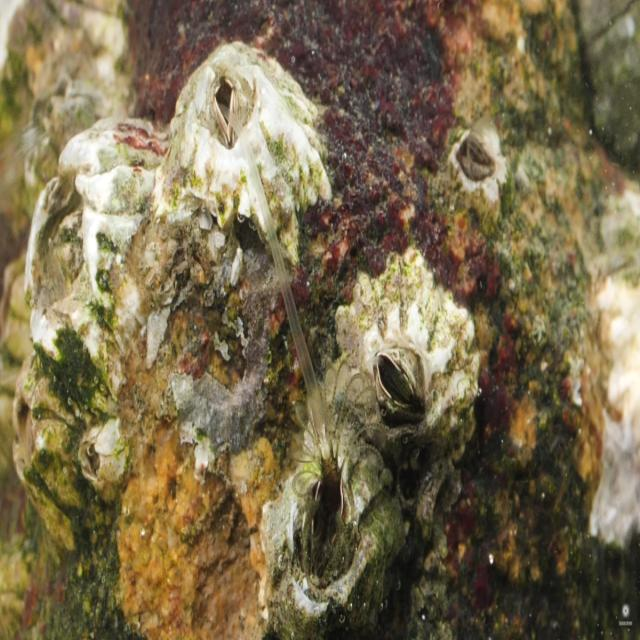barnacles: (169, 38, 328, 269), (330, 248, 480, 470), (27, 115, 158, 368), (260, 416, 407, 640), (12, 354, 74, 550), (435, 98, 515, 242), (78, 420, 134, 500)
